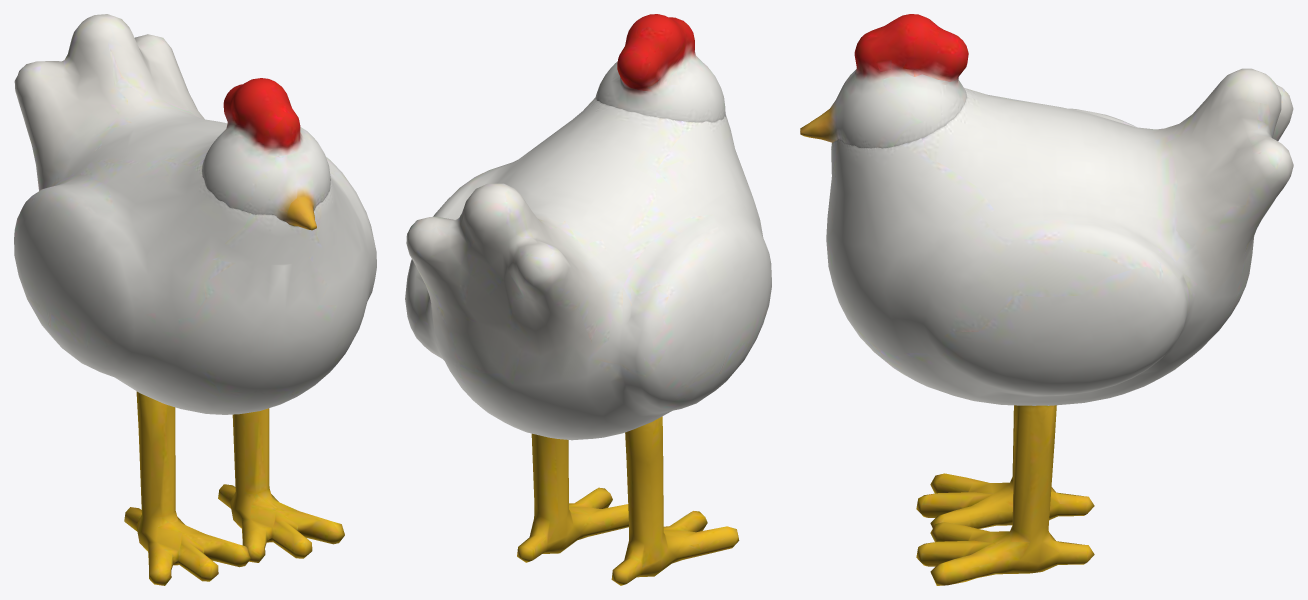
Rendered from animal_leghorn.glb.
The picture shows the model from 3 angles, left to right: view 1: azimuth 30°, elevation 25°; view 2: azimuth 150°, elevation 25°; view 3: azimuth 270°, elevation 25°; orthographic projection. The views are drawn at different scales.
Parts seen in each view (by area): view 1: animal_leghorn, head, leg0, leg1; view 2: animal_leghorn, head, leg0, leg1; view 3: animal_leghorn, head, leg1, leg0.
Boxes of the visible parts, box(x1,y1,x2,y2) form: animal_leghorn: box(14, 14, 376, 414); head: box(202, 78, 330, 230); leg0: box(124, 391, 250, 585); leg1: box(218, 408, 344, 562); animal_leghorn: box(405, 97, 771, 440); head: box(595, 14, 725, 122); leg0: box(611, 416, 739, 585); leg1: box(517, 433, 628, 562); animal_leghorn: box(826, 68, 1293, 405); head: box(800, 14, 968, 148); leg1: box(916, 405, 1094, 585); leg0: box(916, 405, 1094, 528).
Bounding box in the file's own units: 0.1847 × 0.3066 × 0.2577.
1 material, 1 textured.
